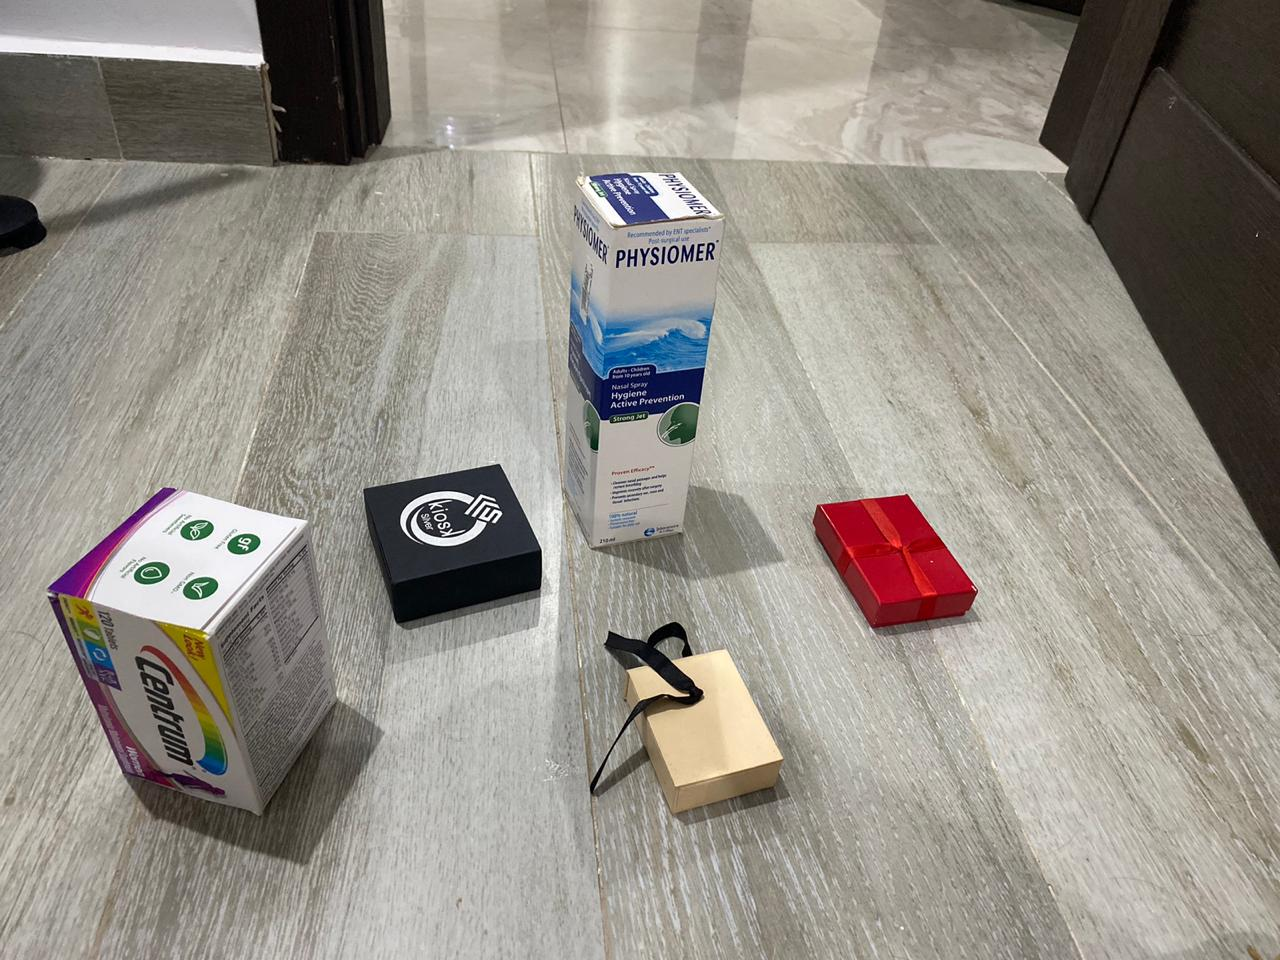Black Box: (816, 493, 981, 639)
Centrum: (47, 483, 344, 824)
Physiomer: (563, 164, 728, 552)
Red Box: (359, 465, 549, 630)
Yellow Box: (619, 644, 786, 821)
